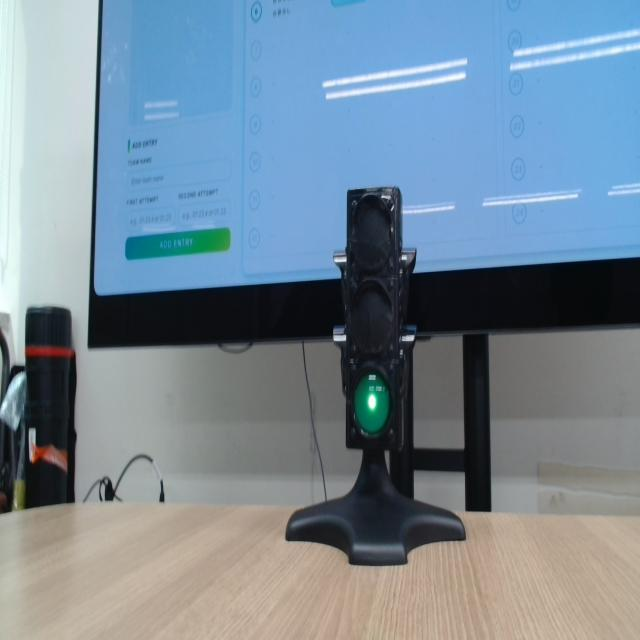green_light: (353, 373, 390, 436), (368, 394, 376, 410)
